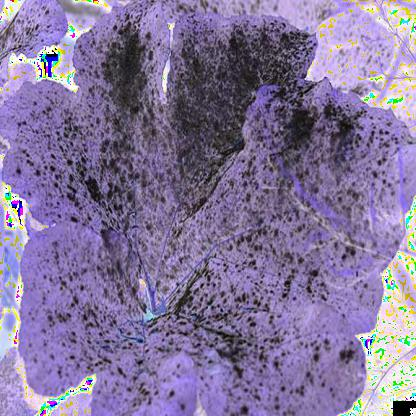squash powdery mildew leaf: (15, 1, 394, 407)
